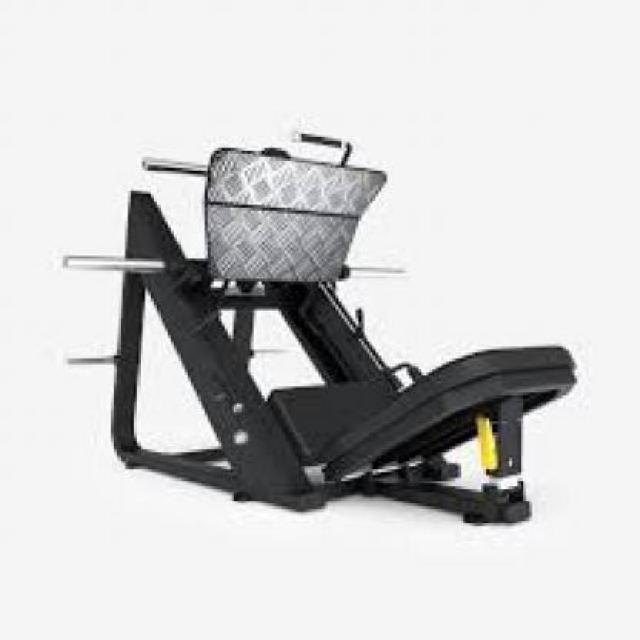leg press: (56, 117, 604, 560)
